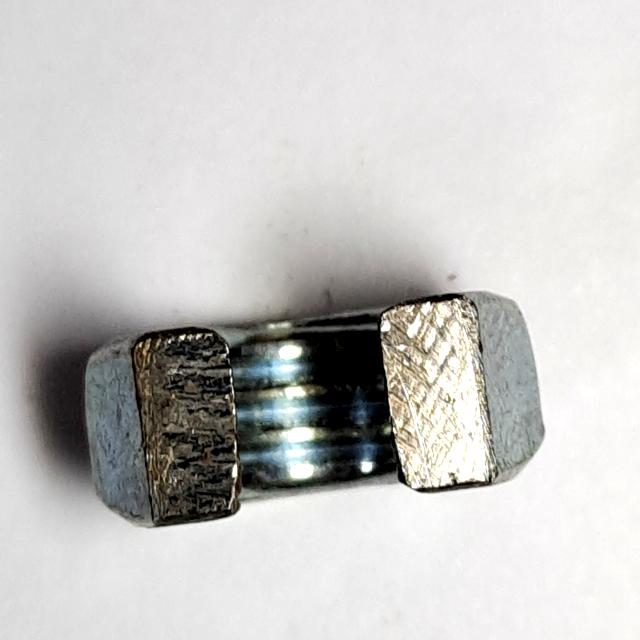Side-Fracture: (72, 273, 558, 548)
